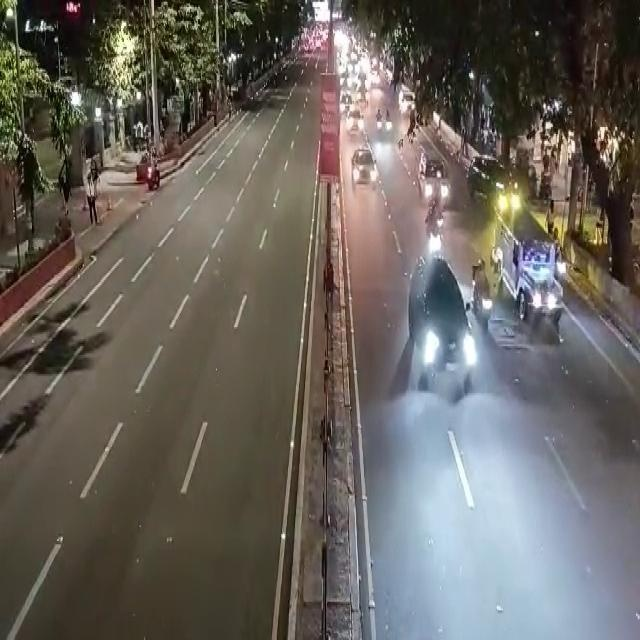car: (414, 260, 474, 400), (466, 151, 517, 205), (418, 154, 451, 200), (352, 148, 379, 192)
jeepney: (492, 204, 560, 323)
motorcycle: (470, 256, 488, 340), (424, 201, 448, 259), (144, 136, 164, 193), (384, 106, 392, 139), (377, 109, 383, 136)
